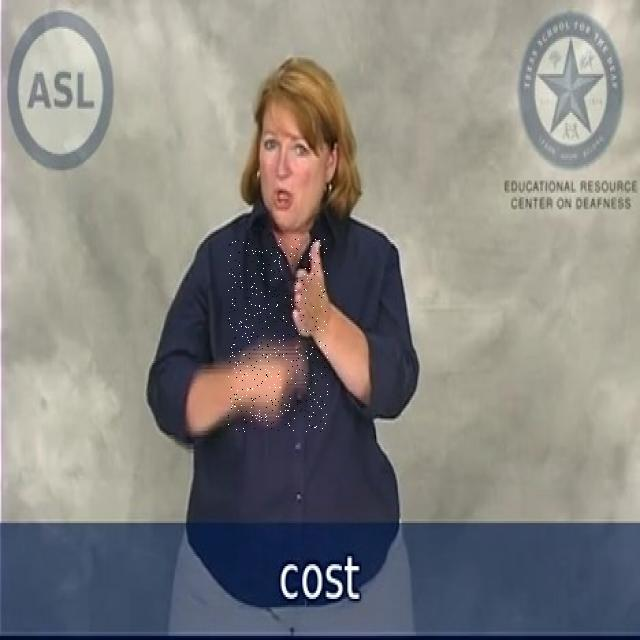cost: (228, 239, 328, 432)
